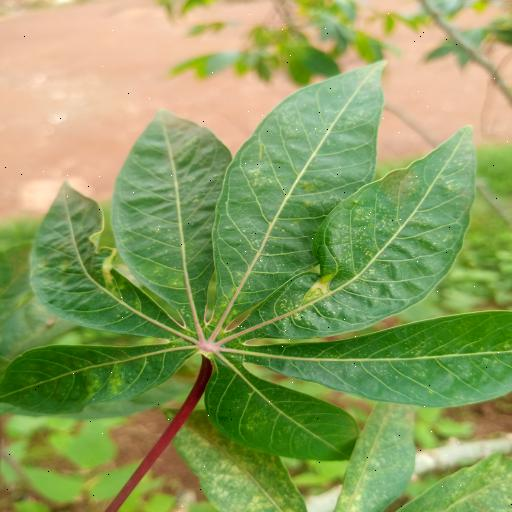Cassava_Mosaic: (11, 68, 512, 463)
